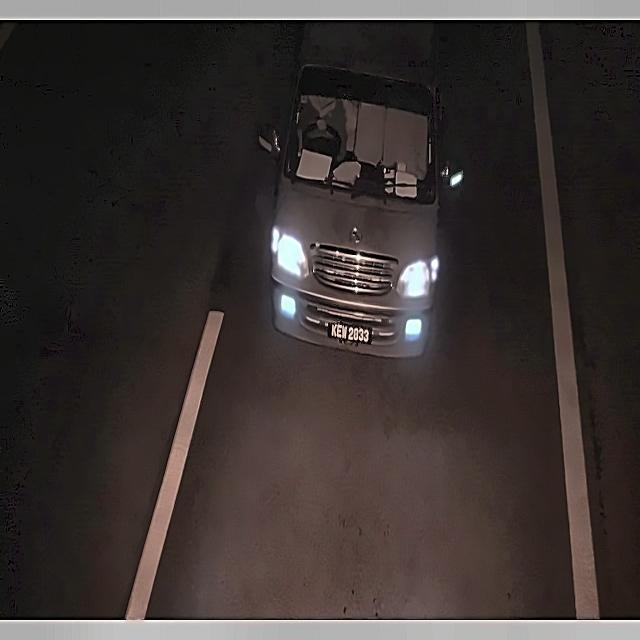car: (327, 316, 372, 349)
